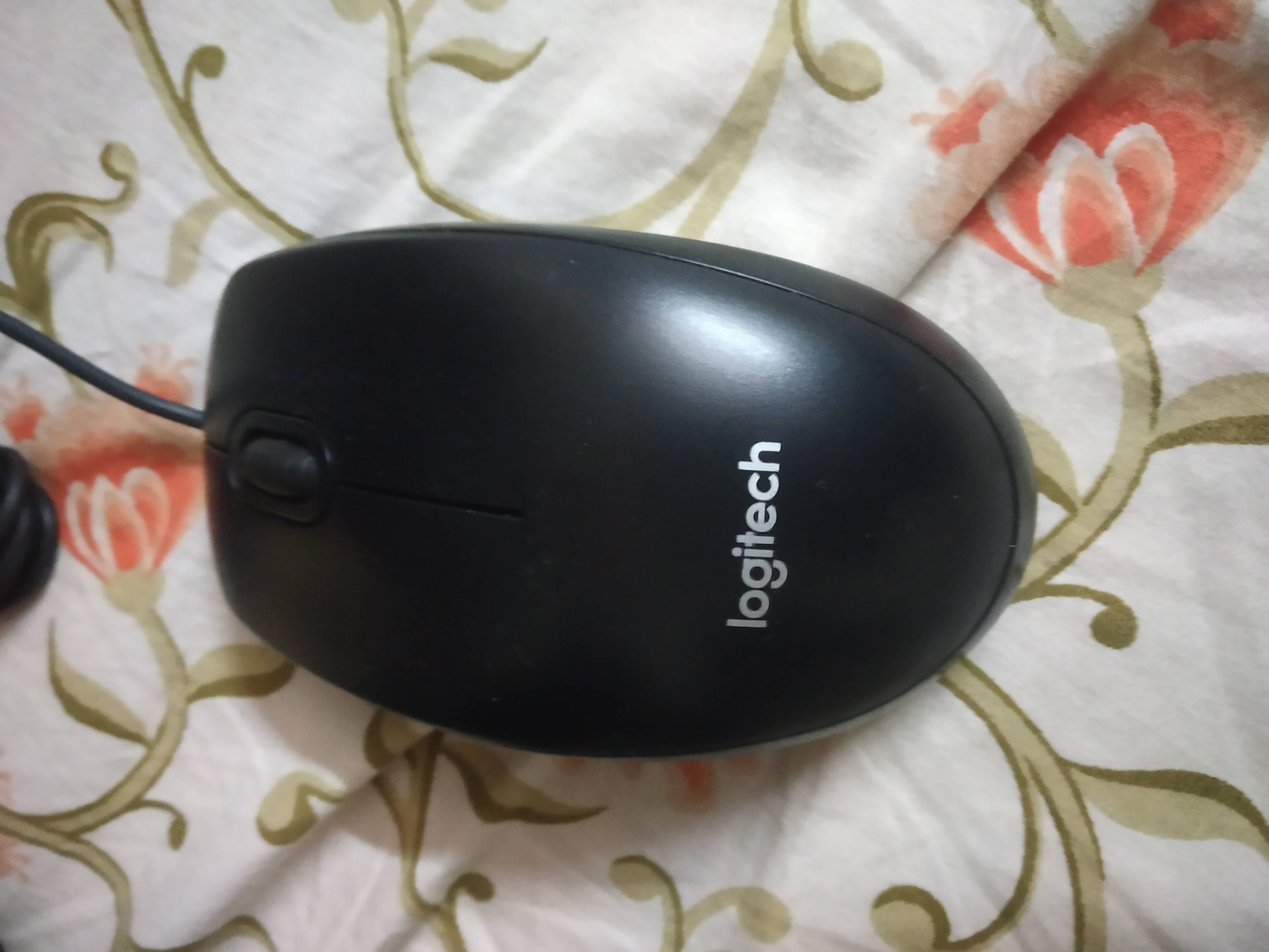Electronics: (182, 196, 1076, 782)
